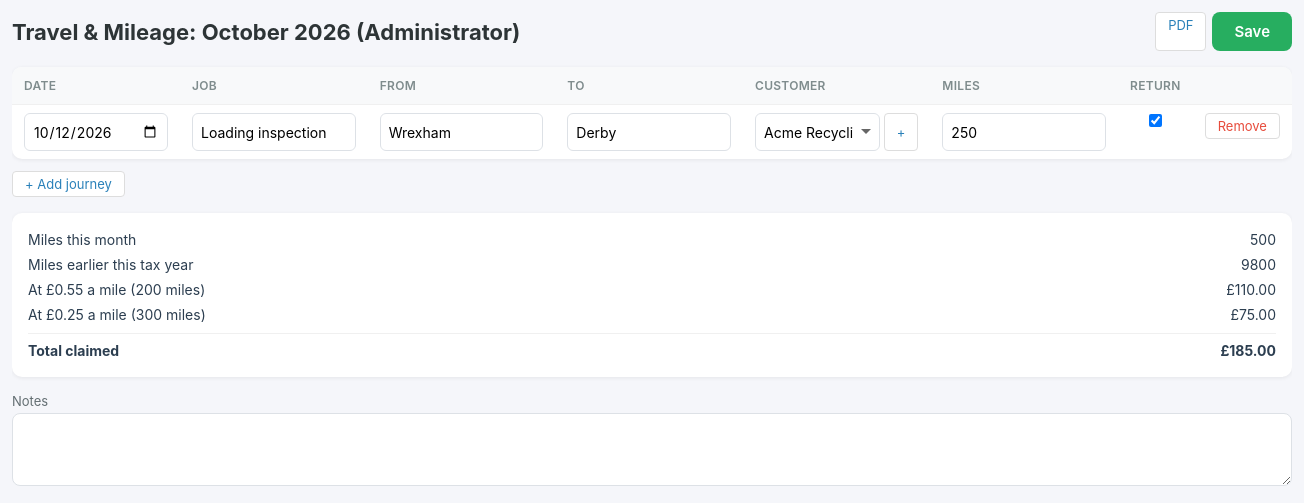
Test case: TravelEdit › totals as you type, doubling a round trip and using the brought forward miles
expect the field showing "Loading inspection" is shown: met, box [192,113,356,151]
expect the text "£110.00" is shown: met, box [1226,281,1276,298]
Note: Unticking the round trip halves it back to 250: 200 at 55p plus 50 at 25p.
Click the checkbox named "Round trip, row 1". click: (1155, 120)
box: [1149,114,1162,127]
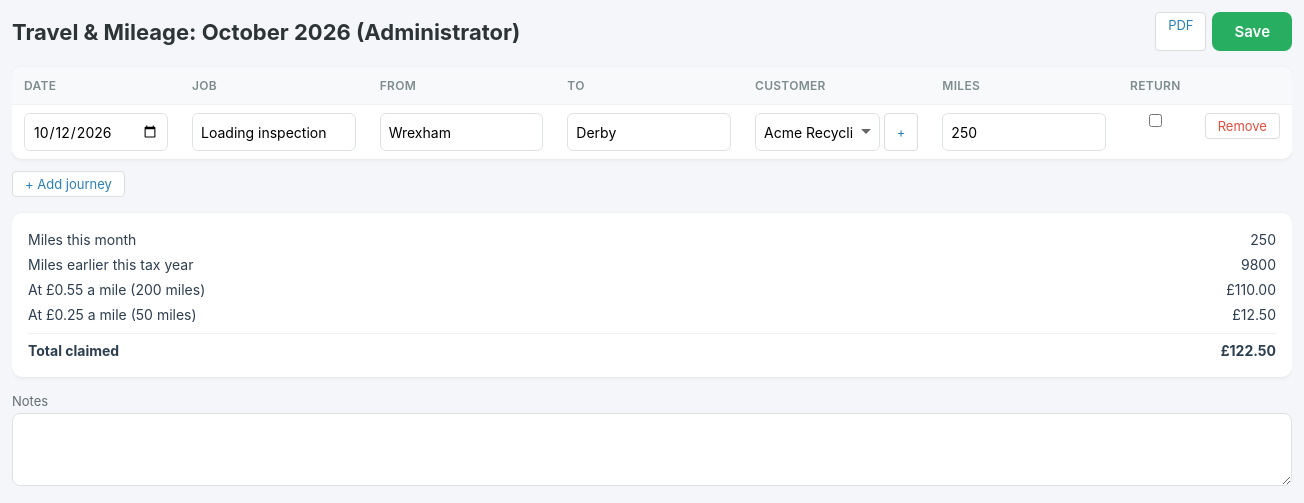
expect the text "£122.50" is shown: met, box [1221,342,1276,359]
